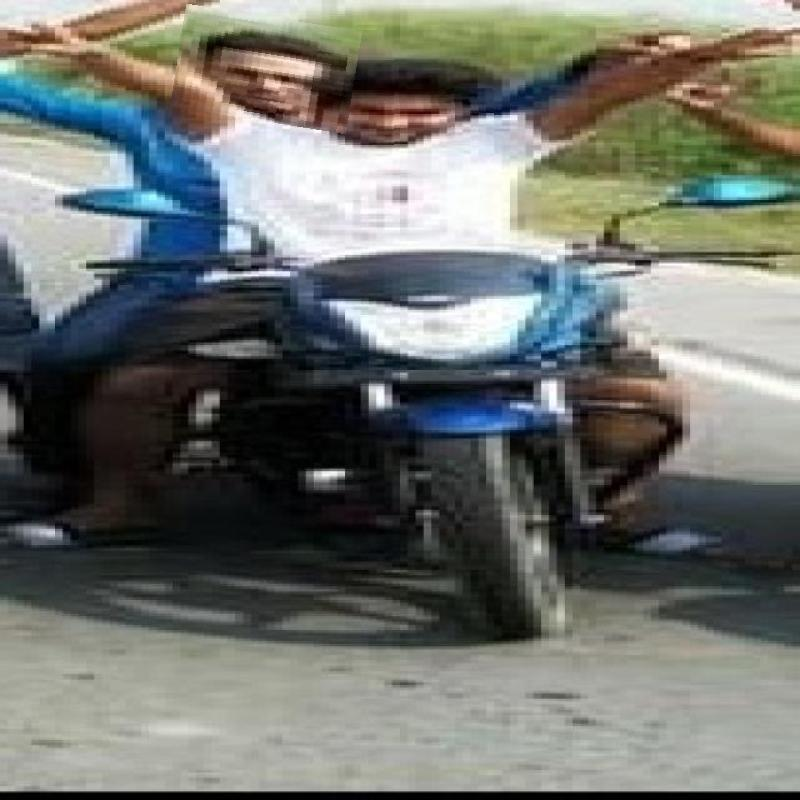nohelmet: (174, 11, 358, 128), (294, 60, 494, 146)
